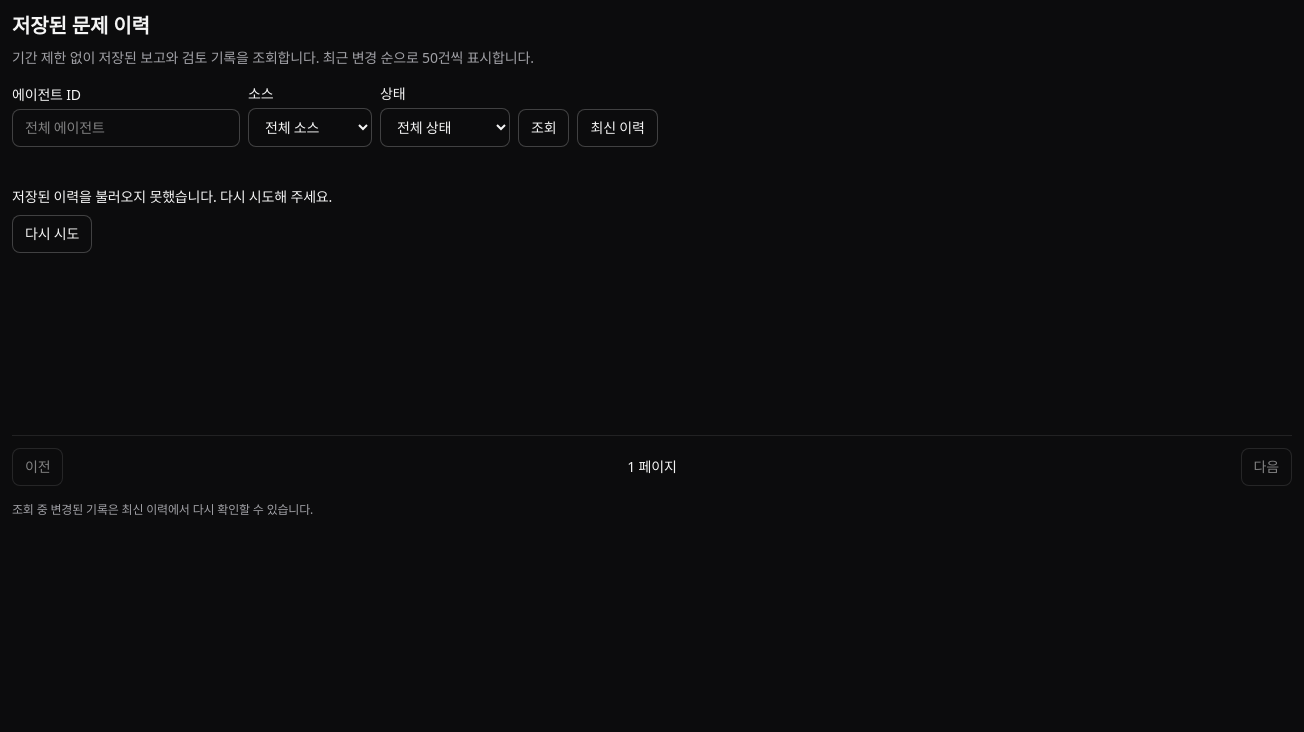
Test case: saved incident history view › shows an actionable error without raw server details and retries
Expected: the message does not show "private secret", 12,187 -> 332,253
Click the button "다시 시도" at (52, 234), box 12,215 -> 92,253
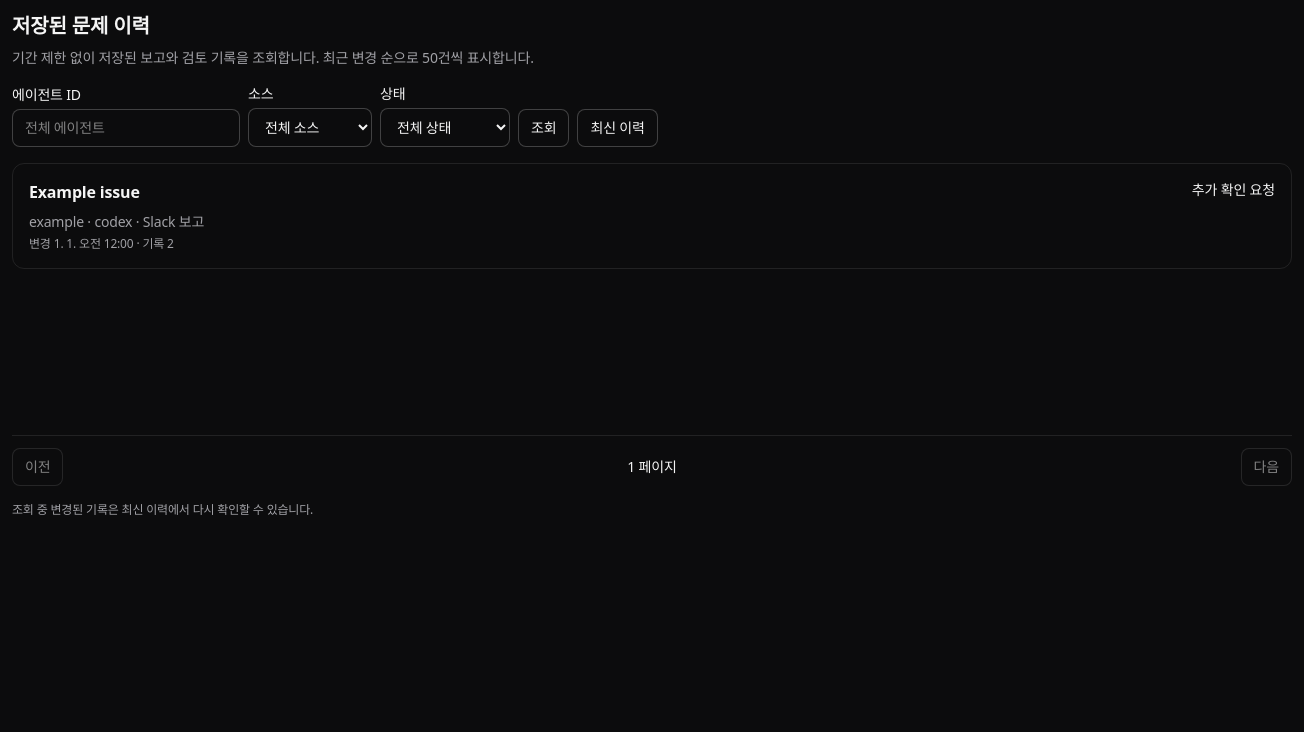
Expected: the link "Example issue" is shown, 12,163 -> 1292,269
Expected: the message "저장된 이력을 불러오지 못했습니다. 다시 시도해 주세요. 다시 시도" is gone
